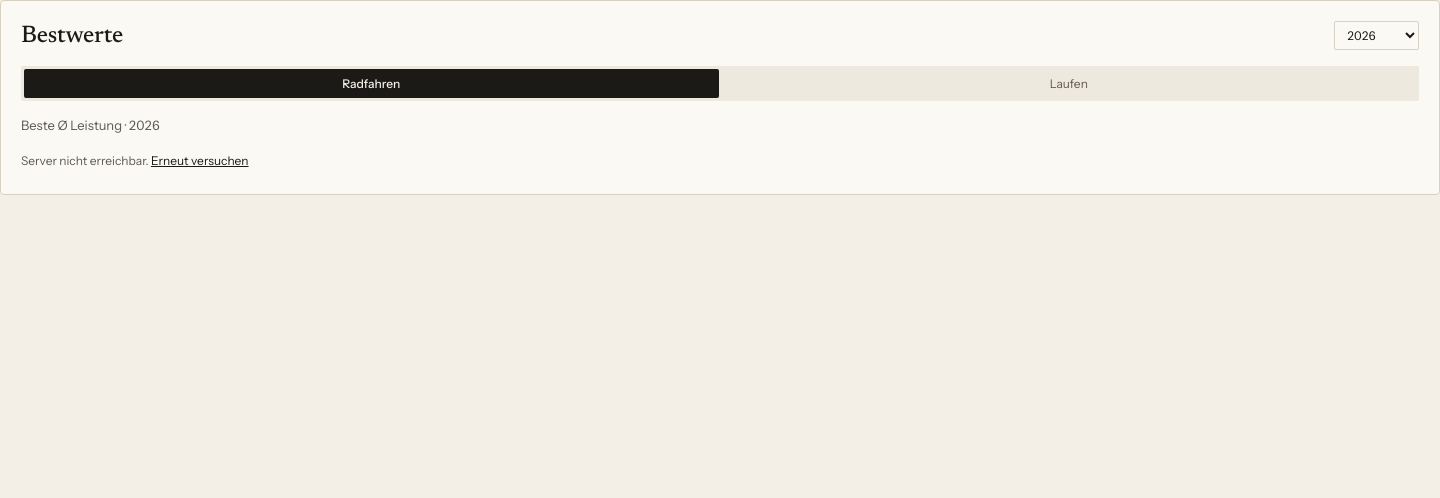
Test: missing measurements show dashes and request failures offer retry
The width and height of the screenshot is (1440, 498).
Check: the message "Server nicht erreichbar. Erneut versuchen" is shown, box 21,147 -> 248,174
Step 1. Click the button "Erneut versuchen" → [200, 161], box 151,147 -> 248,174
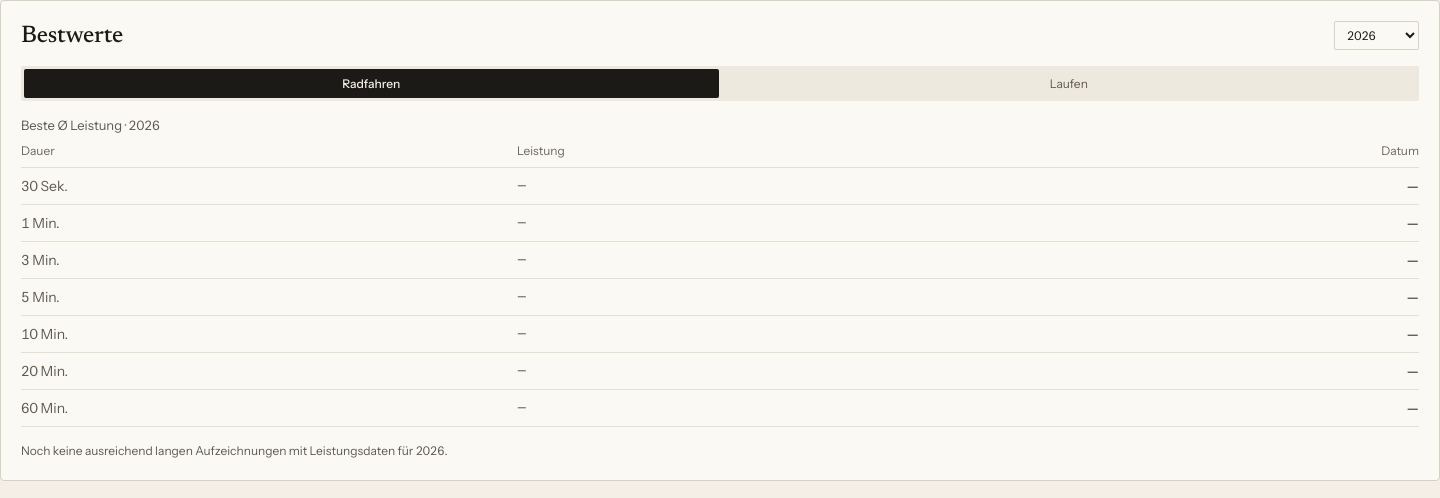
Check: the 1st cell with class "best-efforts-value" reads "—", box 517,179 -> 526,193
Check: the text "Noch keine ausreichend langen Aufzeichnungen" is shown, box 21,443 -> 395,458
Check: the message "Server nicht erreichbar. Erneut versuchen" is gone
